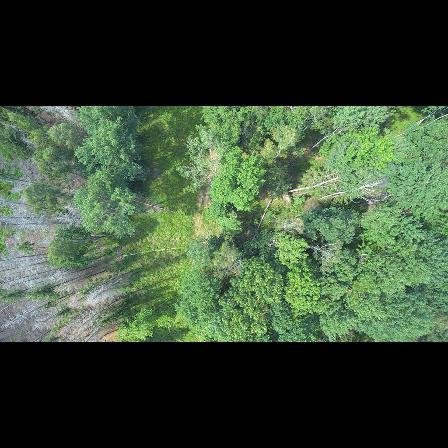Dead: (3, 294, 63, 327), (319, 180, 392, 206), (85, 270, 130, 304), (46, 106, 90, 136), (6, 262, 59, 282), (78, 302, 116, 329), (305, 241, 340, 269), (0, 218, 74, 231), (0, 195, 48, 214), (3, 248, 50, 262), (4, 174, 47, 189)
